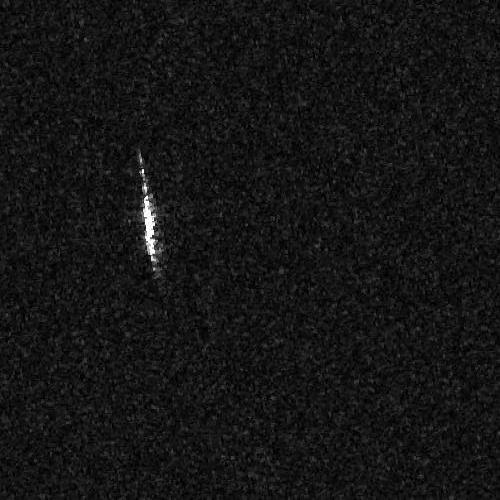ship: (139, 166, 159, 265)
